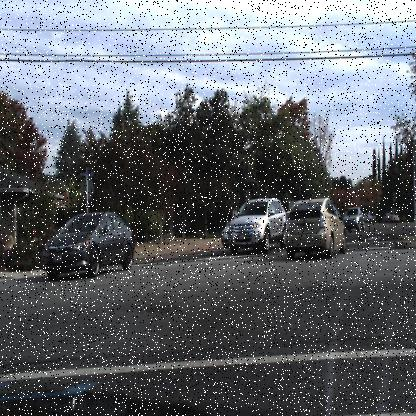car: (38, 209, 136, 279), (283, 197, 347, 260), (228, 197, 286, 254), (376, 206, 402, 225), (361, 206, 376, 230)
